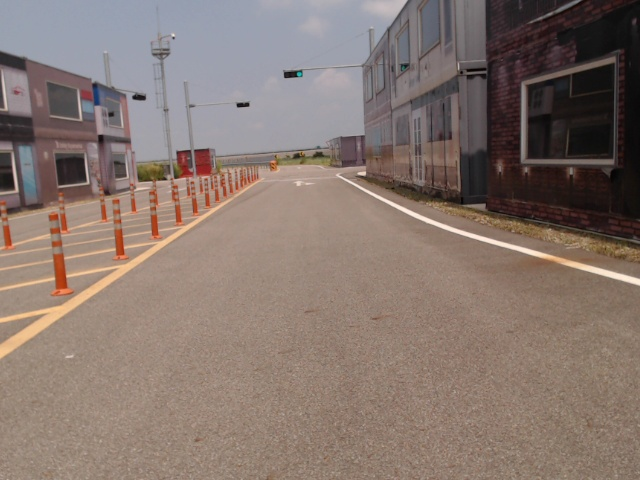green_3: (284, 70, 303, 78)
